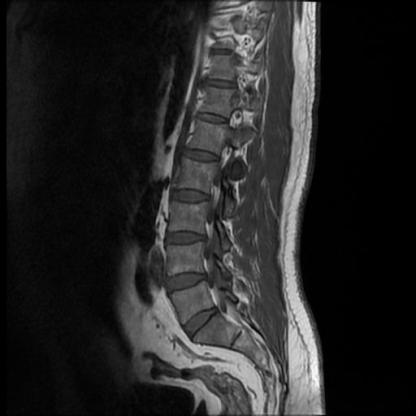Disc Bulgerotation: (179, 308, 226, 332)
Disc Relaxationrotation: (162, 182, 214, 294), (180, 308, 221, 332)
